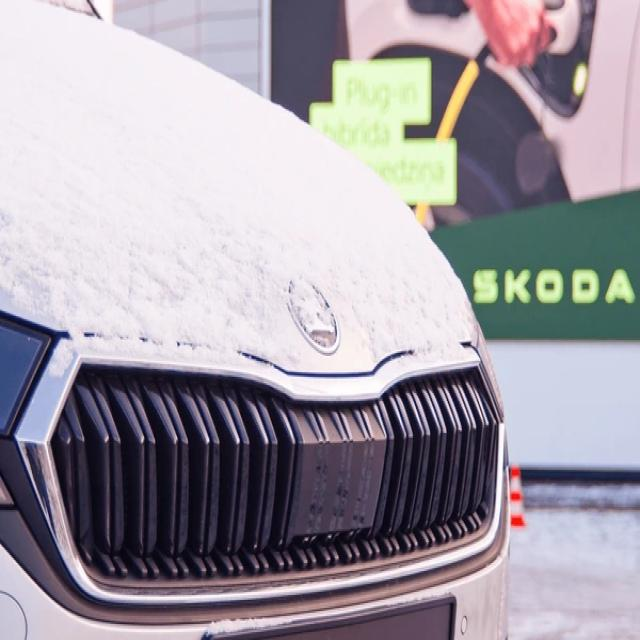skoda: (286, 274, 346, 362)
